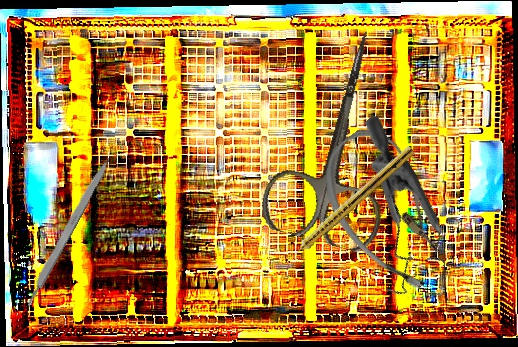Cannula: (301, 116, 475, 303)
Handpiece: (281, 142, 417, 266)
Iris Scissors: (254, 17, 427, 256)
Scalpel Handle: (20, 153, 114, 310)
Speculum: (291, 113, 503, 321)
